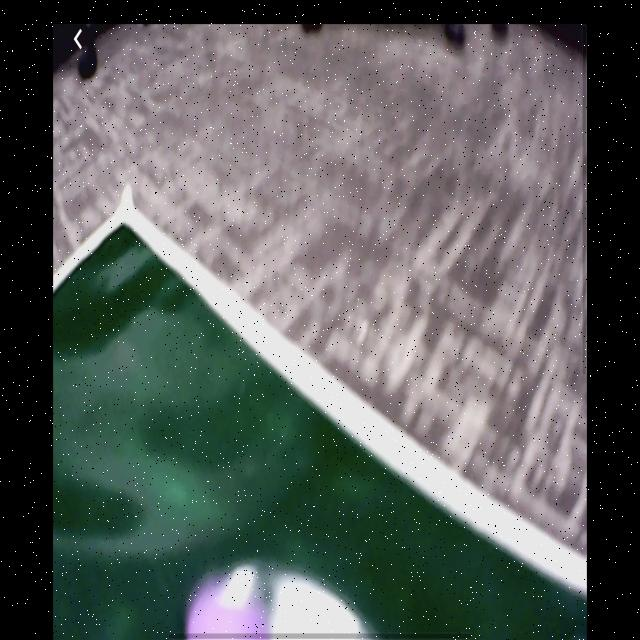ball: (184, 565, 271, 638)
